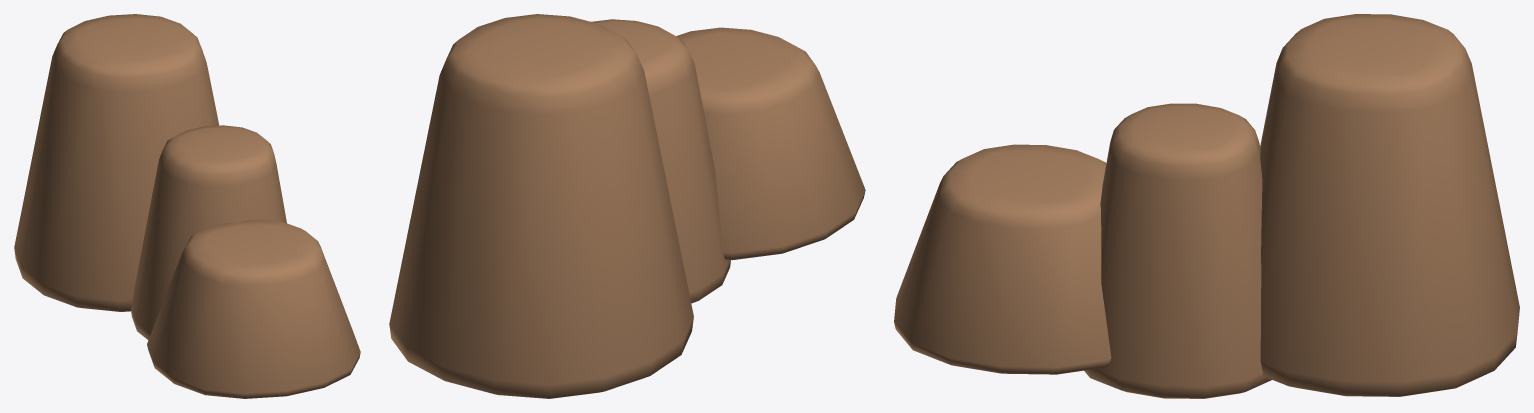
Rendered from decorLarge-forest-72.glb.
3 renders of one model, left to right at view 1: azimuth 30°, elevation 25°; view 2: azimuth 150°, elevation 25°; view 3: azimuth 270°, elevation 25°, orthographic. The views are drawn at different scales.
Visible parts, largest first — view 1: piece; view 2: piece; view 3: piece.
Part boxes in pixels (left/top/right/bottom): piece: left=14, top=14, right=360, bottom=398; piece: left=389, top=14, right=865, bottom=398; piece: left=894, top=14, right=1519, bottom=398.
Size of the model in its own units: 3.44 by 3.94 by 7.28.
